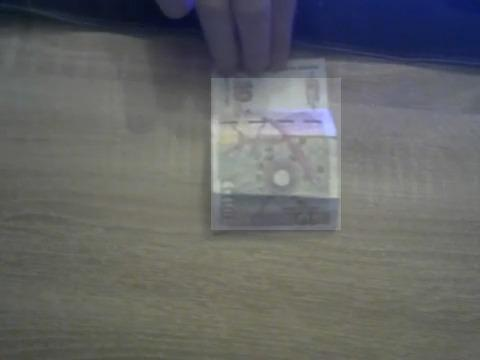10leva: (211, 78, 341, 230)
